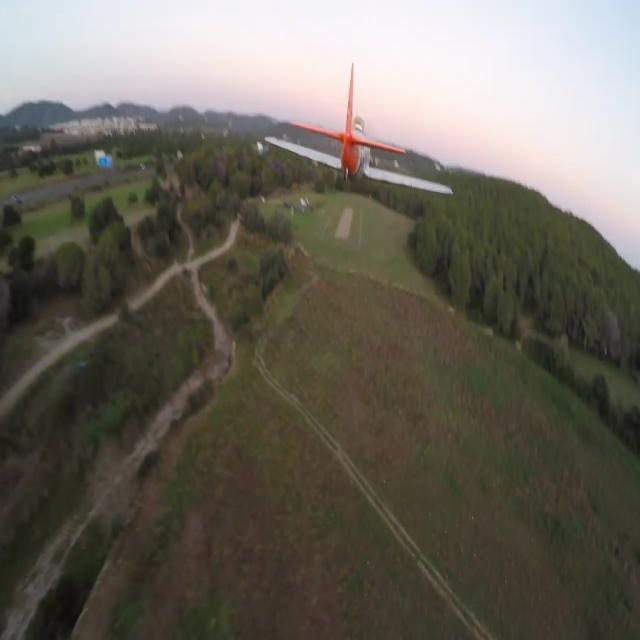iha: (264, 62, 454, 195)
